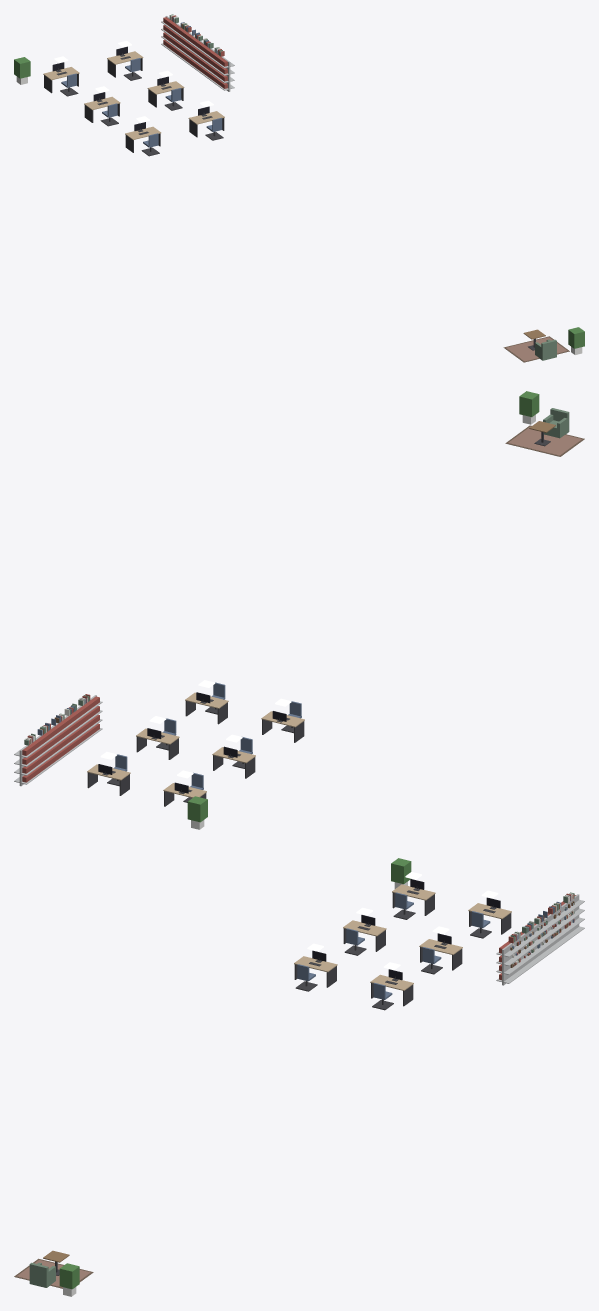
Rendered from fine-s1.glb.
The picture shows the model from 3 angles, top to bottom: view 1: azimuth 30°, elevation 25°; view 2: azimuth 150°, elevation 25°; view 3: azimuth 330°, elevation 25°; orthographic projection. The views are drawn at different scales.
Parts seen in each view (by area): view 1: soft-s1, shelving.004, shelving.000, office-desk-real.002, shelving.002, office-desk-real.003, office-desk-real.005, office-desk-real.001, office-desk-real.004, office-desk-real.000, shelving.001; view 2: soft-s1, shelving.000, shelving.002, office-desk-real.003, office-desk-real.001, office-desk-real.005, shelving.001, office-desk-real.002, office-desk-real.004, shelving.004, shelving.003, plant-medium.000 (+2 smaller); view 3: soft-s1, shelving.004, shelving.000, office-desk-real.000, office-desk-real.004, office-desk-real.002, office-desk-real.005, office-desk-real.001, office-desk-real.003, shelving.002, plant-medium.000, sofa.000 (+1 smaller).
Part boxes in pixels (x1,y1,x2,y2): soft-s1: (169,14,569,362); shelving.004: (206,49,234,91); shelving.000: (161,16,182,57); office-desk-real.002: (84,92,120,122); shelving.002: (183,33,205,73); office-desk-real.003: (147,76,184,107); office-desk-real.005: (188,106,224,137); office-desk-real.001: (107,46,143,77); office-desk-real.004: (125,122,161,152); office-desk-real.000: (43,62,79,93); shelving.001: (173,24,194,65); soft-s1: (24,425,584,745); shelving.000: (14,735,48,786); shelving.002: (50,715,75,762); office-desk-real.003: (136,728,179,759); office-desk-real.001: (87,764,130,795); office-desk-real.005: (185,692,228,724); shelving.001: (36,725,62,773); office-desk-real.002: (212,746,255,778); office-desk-real.004: (261,711,304,742); shelving.004: (77,695,102,744); shelving.003: (64,706,89,754); plant-medium.000: (519,391,539,424); soft-s1: (14,892,574,1288); shelving.004: (496,934,530,985); shelving.000: (557,894,584,943); office-desk-real.000: (392,879,435,915); office-desk-real.004: (294,950,337,987); office-desk-real.002: (343,915,386,951); office-desk-real.005: (370,969,413,1006); office-desk-real.001: (468,897,511,934); office-desk-real.003: (419,933,462,970); shelving.002: (530,914,557,963); plant-medium.000: (59,1263,79,1296); sofa.000: (29,1262,55,1287).
Size of the model in its own units: 8.85 by 1.93 by 41.26.
